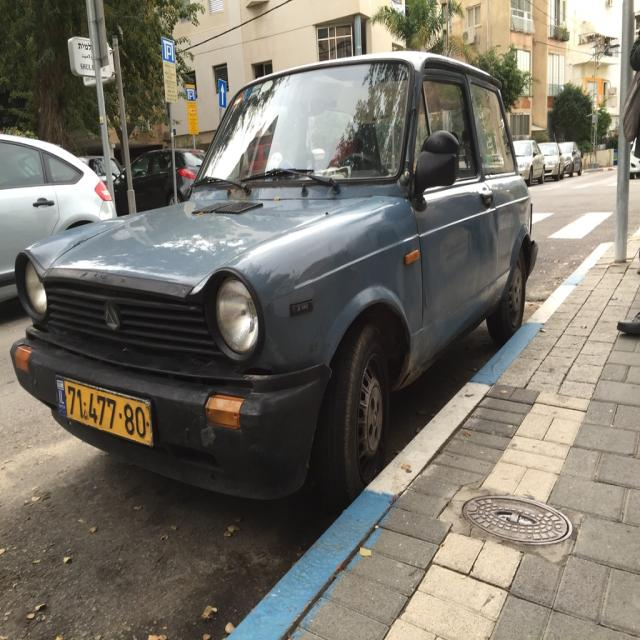car: (16, 49, 527, 518)
